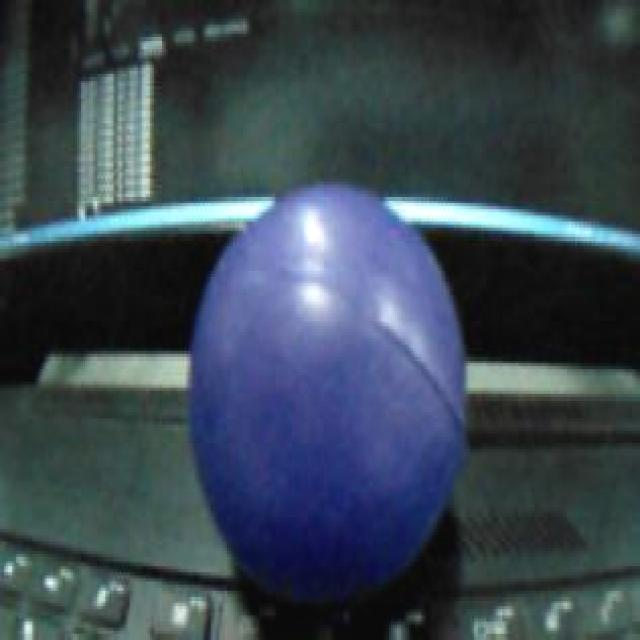BallPurple: (196, 184, 465, 589)
